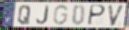0: (72, 4, 87, 27)
G: (52, 4, 70, 26)
J: (36, 5, 49, 25)
P: (87, 4, 107, 27)
Q: (16, 5, 32, 26)
V: (107, 5, 125, 28)
